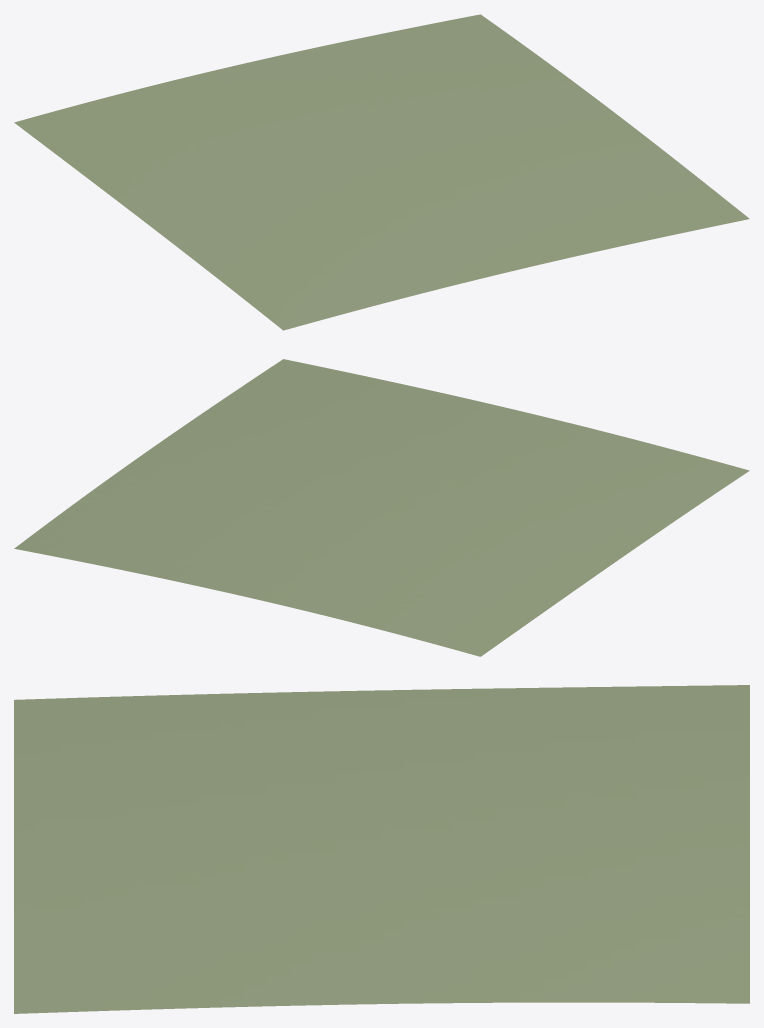
The model's file is expanse-22-17.glb.
The picture shows the model from 3 angles, top to bottom: view 1: azimuth 30°, elevation 25°; view 2: azimuth 150°, elevation 25°; view 3: azimuth 270°, elevation 25°; orthographic projection. The views are drawn at different scales.
Visible parts, largest first — view 1: expanse-22-17; view 2: expanse-22-17; view 3: expanse-22-17.
Boxes of the visible parts, x1,y1,x2,y2 form: expanse-22-17: (14,14,749,330); expanse-22-17: (14,359,749,656); expanse-22-17: (14,685,749,1013).
Bounding box in the file's own units: 256 × 8.58 × 256.
